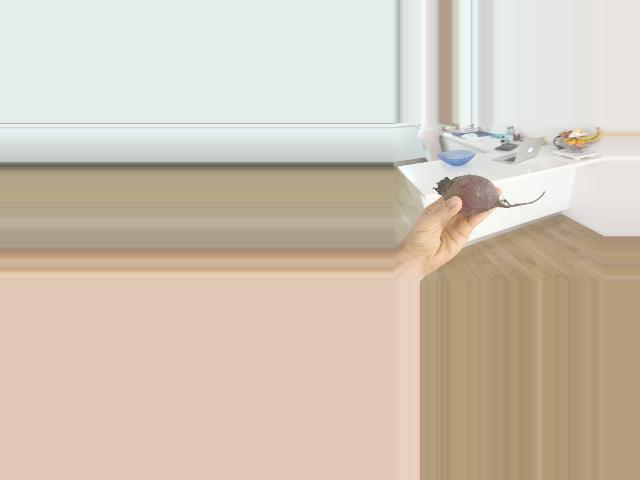beet: (434, 175, 545, 214)
